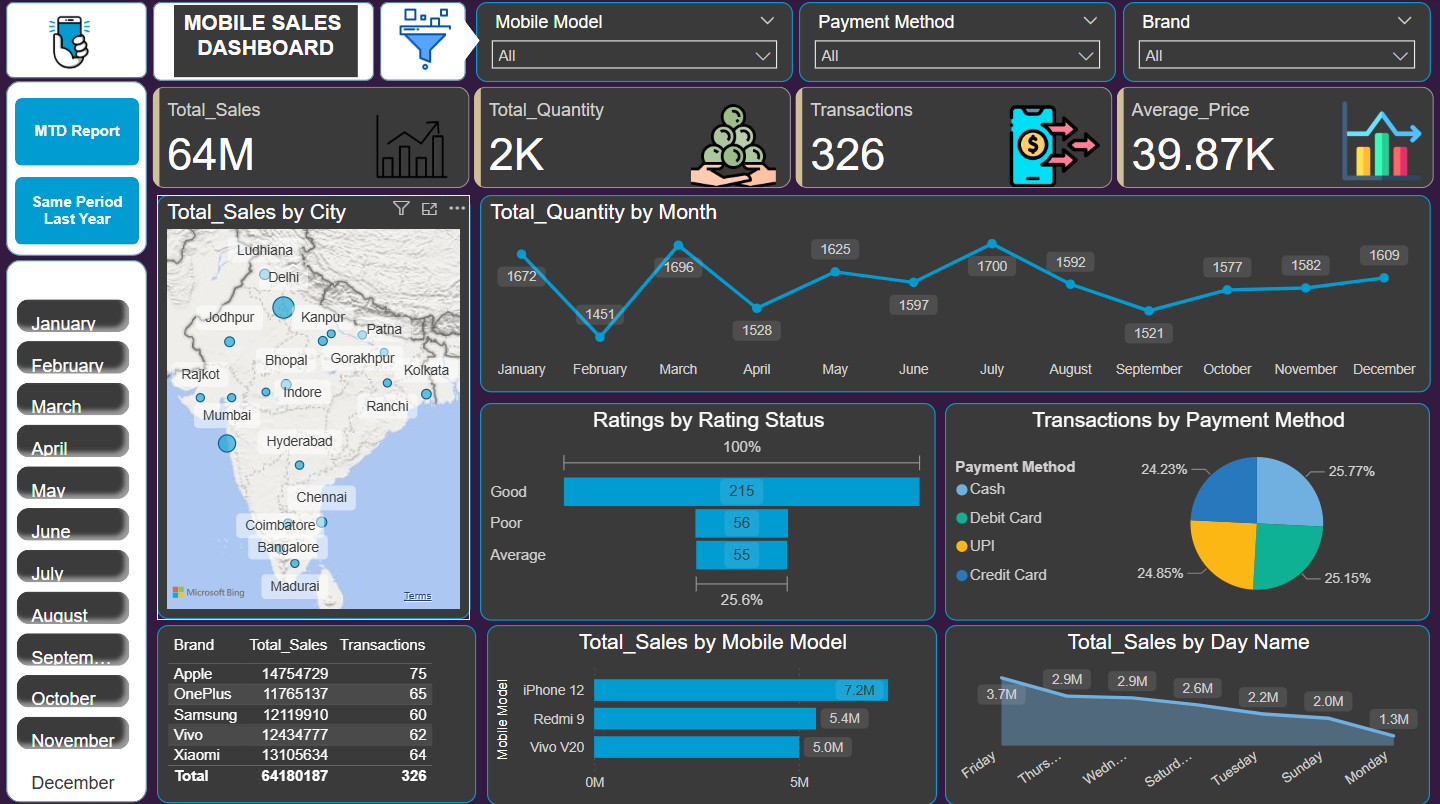

The page's visual inventory and layout, read from the dashboard file:
{"tool":"powerbi","page":{"name":"Dashboard","canvas":[1280,720],"ordinal":0},"visuals":[{"type":"shape","box":[7.5,3.8,125,67.5],"z":0},{"type":"image","box":[23.8,3.8,78.8,71.2],"z":1000},{"type":"shape","box":[7.5,73.8,125,155],"z":2000},{"type":"shape","box":[7.5,232.5,125,481.2],"z":3000},{"type":"advancedSlicerVisual","fields":{"Values":["Custom_Calendar.Date.Variation.Date Hierarchy.Month"]},"box":[11.2,241.2,110,472.5],"z":4000},{"type":"cardVisual","fields":{"Data":["Sales_Data.Total_Sales","Sales_Data.Total_Quantity","Sales_Data.Transactions","Sales_Data.Average_Price"]},"box":[132.5,73.8,1147.5,100],"z":5000},{"type":"slicer","fields":{"Values":["Sales_Data.Mobile Model"]},"box":[423.8,3.8,281.2,71.2],"z":6000},{"type":"slicer","fields":{"Values":["Sales_Data.Payment Method"]},"box":[710,3.8,281.2,71.2],"z":7000},{"type":"slicer","fields":{"Values":["Sales_Data.Brand"]},"box":[997.5,3.8,272.5,71.2],"z":8000},{"type":"shape","box":[338.8,3.8,76.2,70],"z":9000},{"type":"image","box":[337.5,3.8,81.2,66.2],"z":10000},{"type":"shape","box":[397.5,17.5,30,40],"z":11000},{"type":"shape","box":[137.5,3.8,196.2,70],"z":12000},{"type":"textbox","box":[156.2,6.2,162.5,63.8],"z":13000},{"type":"map","fields":{"Category":["Sales_Data.City"],"Size":["Sales_Data.Total_Sales"]},"box":[141.2,175,277.5,376.2],"z":14000},{"type":"lineChart","fields":{"Y":["Sales_Data.Total_Quantity"],"Category":["Custom_Calendar.Date.Variation.Date Hierarchy.Month"]},"box":[427.5,175,842.5,175],"z":15000},{"type":"funnel","title":"Ratings by Rating Status","fields":{"Y":["Sum(Sales_Data.Customer Ratings)"],"Category":["Sales_Data.Rating Status"]},"box":[427.5,358.8,403.8,192.5],"z":16000},{"type":"pieChart","fields":{"Y":["Sales_Data.Transactions"],"Category":["Sales_Data.Payment Method"]},"box":[840,358.8,430,192.5],"z":17000},{"type":"clusteredBarChart","fields":{"Y":["Sales_Data.Total_Sales"],"Category":["Sales_Data.Mobile Model"]},"box":[433.8,556.2,398.8,160],"z":18000},{"type":"areaChart","fields":{"Y":["Sales_Data.Total_Sales"],"Category":["Custom_Calendar.Day Name"]},"box":[840,556.2,430,160],"z":19000},{"type":"tableEx","fields":{"Values":["Sales_Data.Brand","Sales_Data.Total_Sales","Sales_Data.Transactions"]},"box":[141.2,556.2,282.5,157.5],"z":20000},{"type":"pageNavigator","box":[15,88.8,110,130],"z":21000}]}

Visuals, with their boxes in screenshot pixels (x1, y1, x2, y2), scaled from the page's 1280x720 canvas onto the 1440x804 screenshot:
shape: [8, 4, 149, 80]
image: [27, 4, 115, 84]
shape: [8, 82, 149, 255]
shape: [8, 260, 149, 797]
advancedSlicerVisual - Custom_Calendar.Date.Variation.Date Hierarchy.Month: [13, 269, 136, 797]
cardVisual - Sales_Data.Total_Sales x Sales_Data.Total_Quantity: [149, 82, 1439, 194]
slicer - Sales_Data.Mobile Model: [477, 4, 793, 84]
slicer - Sales_Data.Payment Method: [799, 4, 1115, 84]
slicer - Sales_Data.Brand: [1122, 4, 1429, 84]
shape: [381, 4, 467, 82]
image: [380, 4, 471, 78]
shape: [447, 20, 481, 64]
shape: [155, 4, 375, 82]
textbox: [176, 7, 359, 78]
map - Sales_Data.City x Sales_Data.Total_Sales: [159, 195, 471, 616]
lineChart - Sales_Data.Total_Quantity x Custom_Calendar.Date.Variation.Date Hierarchy.Month: [481, 195, 1429, 391]
"Ratings by Rating Status" funnel: [481, 401, 935, 616]
pieChart - Sales_Data.Transactions x Sales_Data.Payment Method: [945, 401, 1429, 616]
clusteredBarChart - Sales_Data.Total_Sales x Sales_Data.Mobile Model: [488, 621, 937, 800]
areaChart - Sales_Data.Total_Sales x Custom_Calendar.Day Name: [945, 621, 1429, 800]
tableEx - Sales_Data.Brand x Sales_Data.Total_Sales: [159, 621, 477, 797]
pageNavigator: [17, 99, 141, 244]
